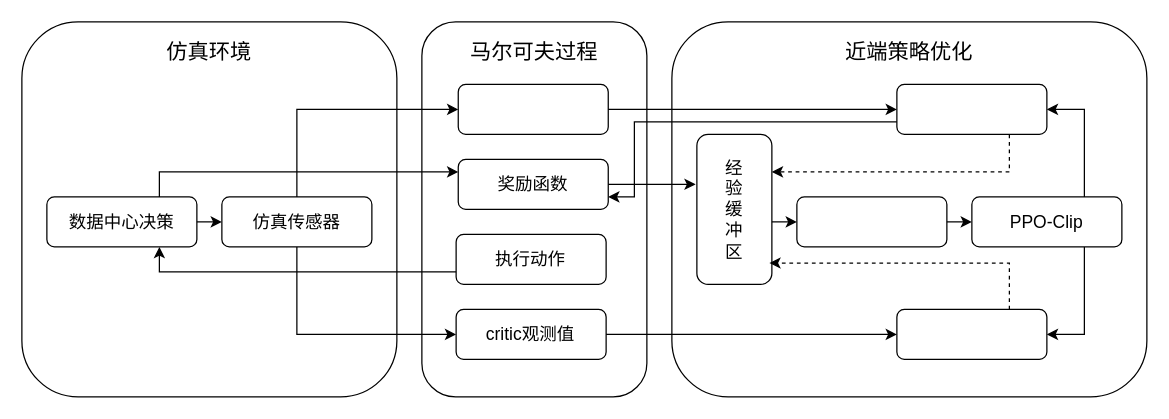
Image size: 1169x419. Some labels were removed from this diagram. Each missing label, with the centre of its shape:
actor观测值: [532,108]
价值网络: [971,333]
优势估计GAE: [871,221]
策略网络: [971,108]
